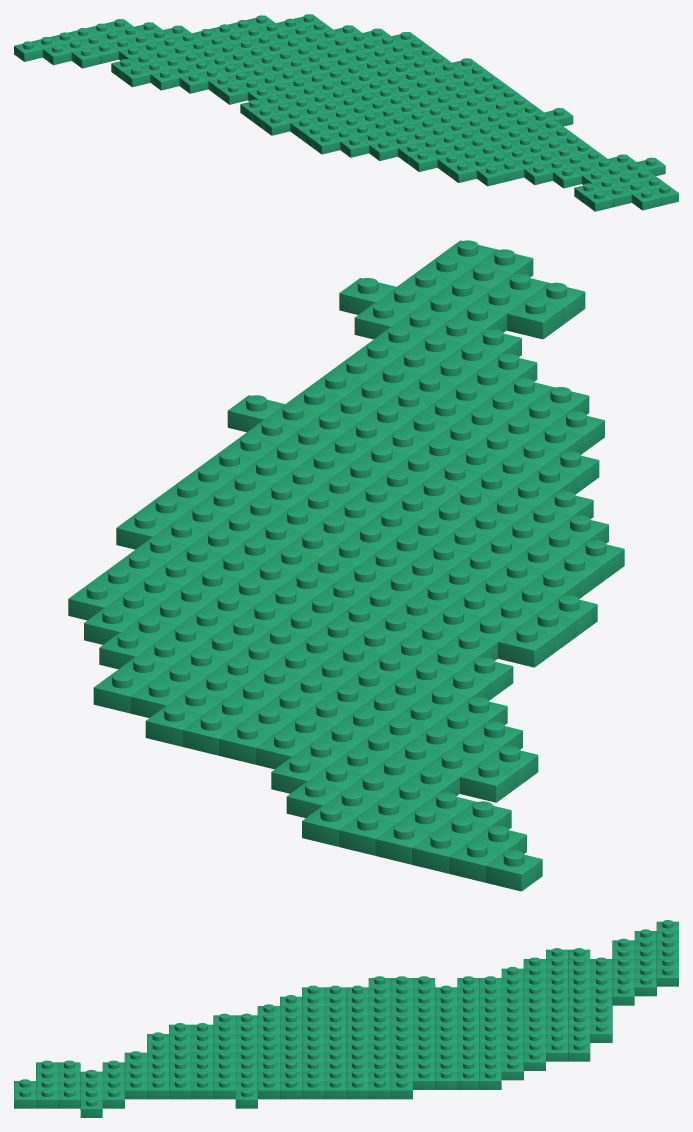
The model's file is Ural.fbx.
The picture shows the model from 3 angles, top to bottom: view 1: azimuth 30°, elevation 25°; view 2: azimuth 150°, elevation 25°; view 3: azimuth 270°, elevation 25°; orthographic projection. The views are drawn at different scales.
Parts seen in each view (by area): view 1: Cylinder_62; view 2: Cylinder_62; view 3: Cylinder_62.
Boxes of the visible parts, x1,y1,x2,y2 form: Cylinder_62: (14,14,678,211); Cylinder_62: (68,240,624,891); Cylinder_62: (14,920,678,1117).
Size of the model in its own units: 2000 by 65.03 by 3000.
